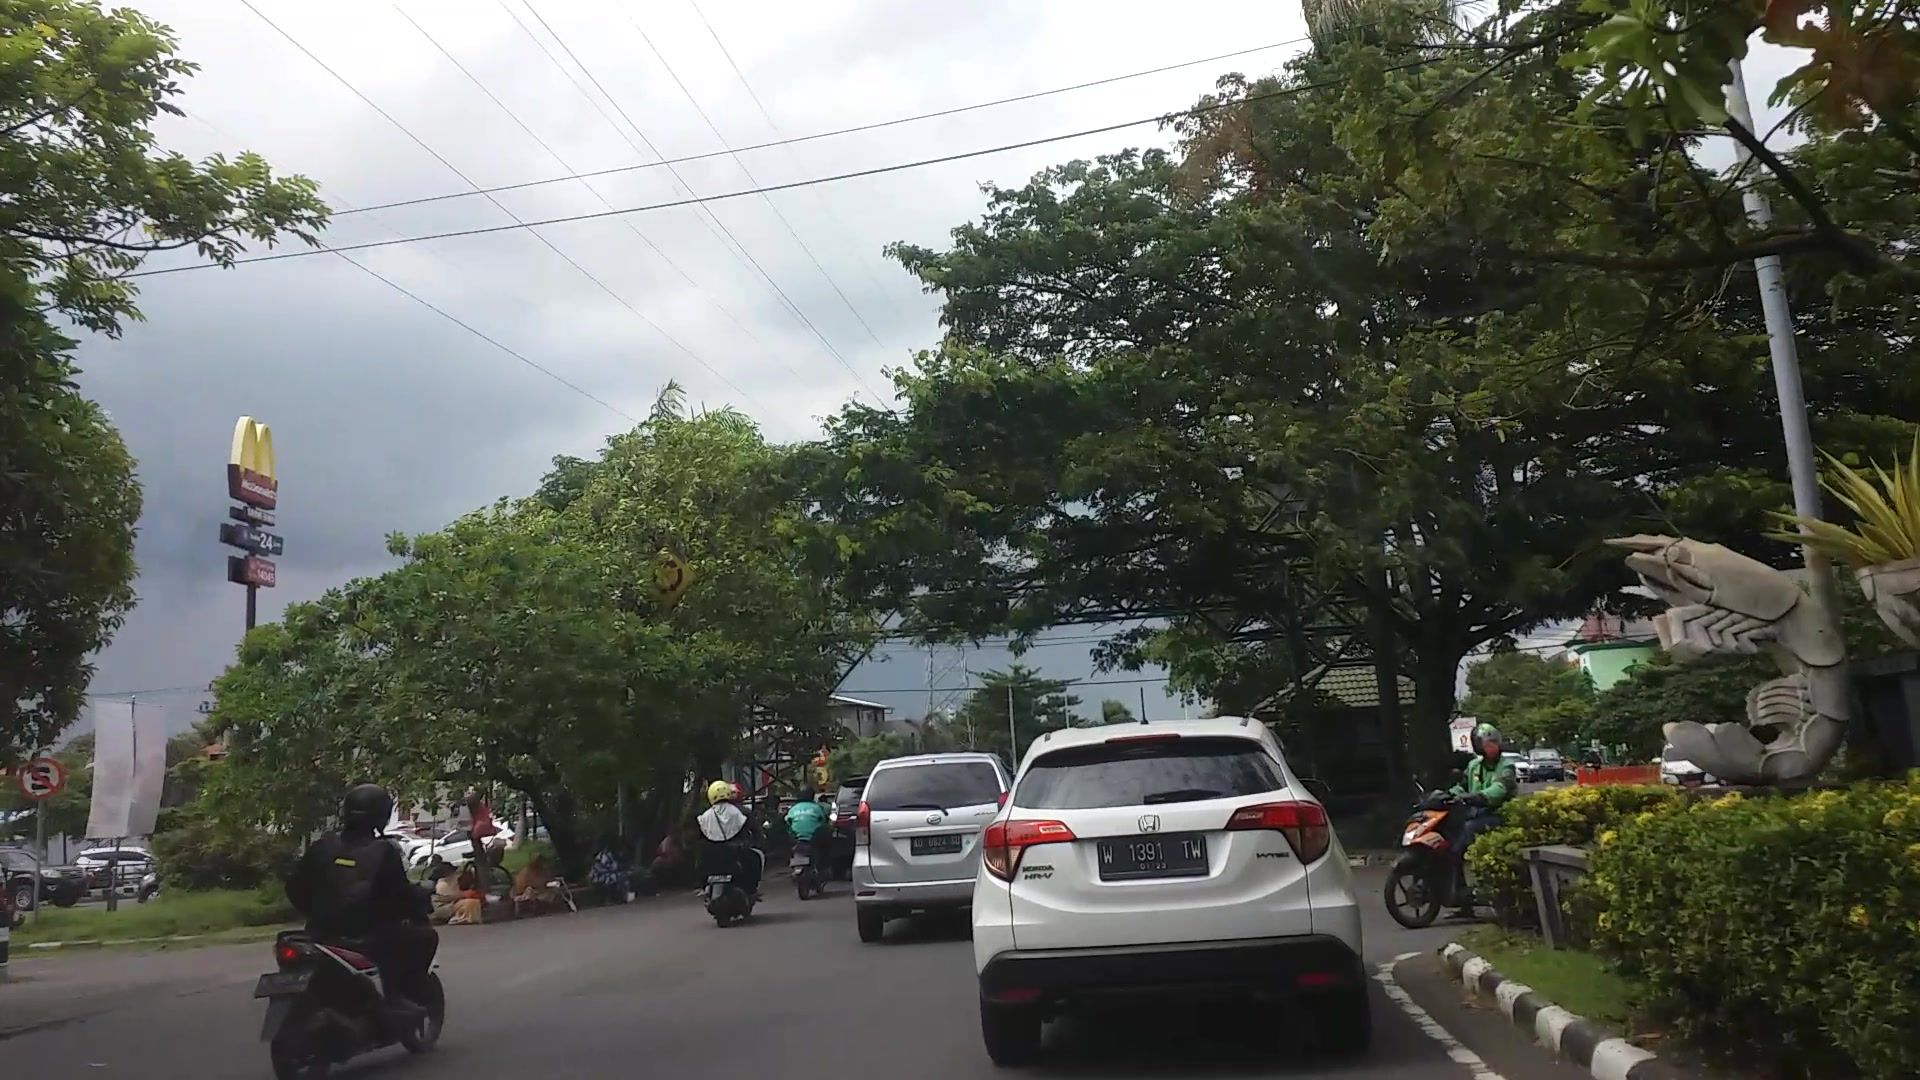plate_positive: (1098, 835, 1208, 878)
